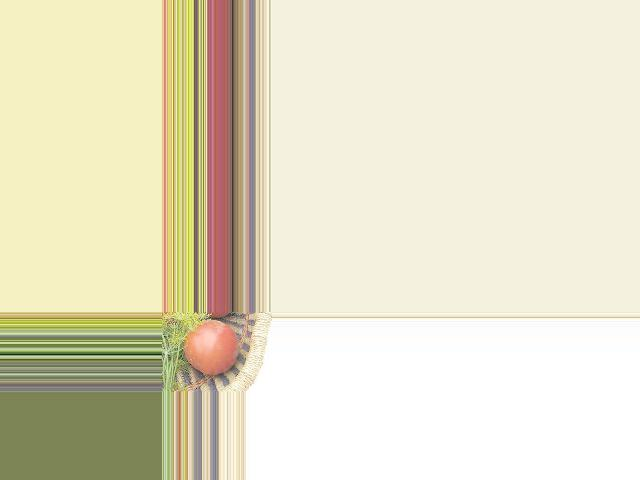tomato: (182, 320, 238, 374)
